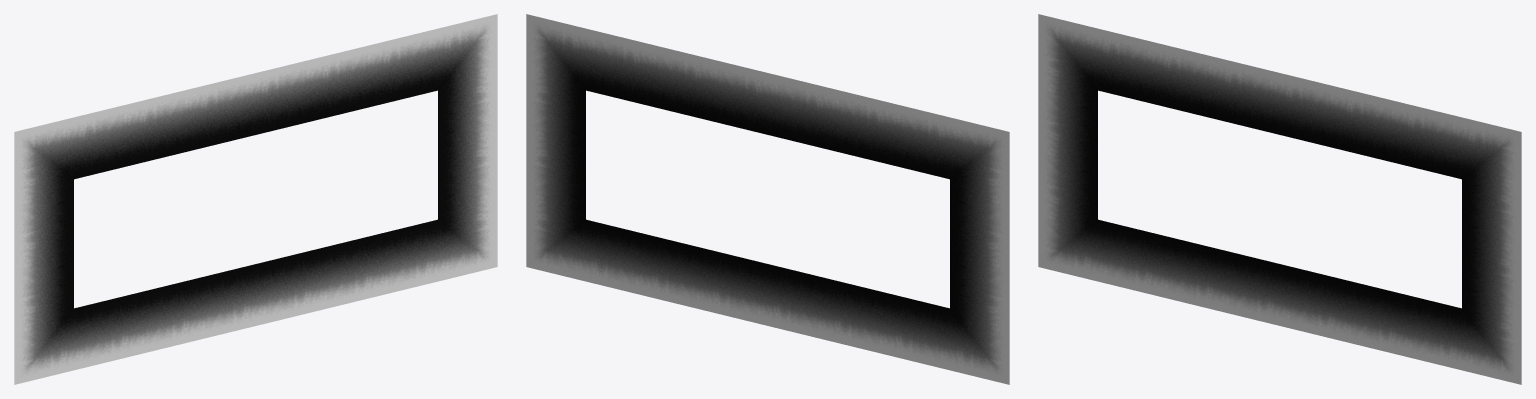
Rendered from DoorLockGlow_B.fbx.
3 views of the same model, side by side, from view 1: azimuth 30°, elevation 25°; view 2: azimuth 150°, elevation 25°; view 3: azimuth 330°, elevation 25° (orthographic).
Visible parts, largest first — view 1: pPlane391; view 2: pPlane391; view 3: pPlane391.
Boxes of the visible parts, <box> form: pPlane391: <box>14,14,497,384</box>; pPlane391: <box>526,14,1009,384</box>; pPlane391: <box>1038,14,1521,384</box>.
Size of the model in its own units: 12.34 by 6.17 by 0.
